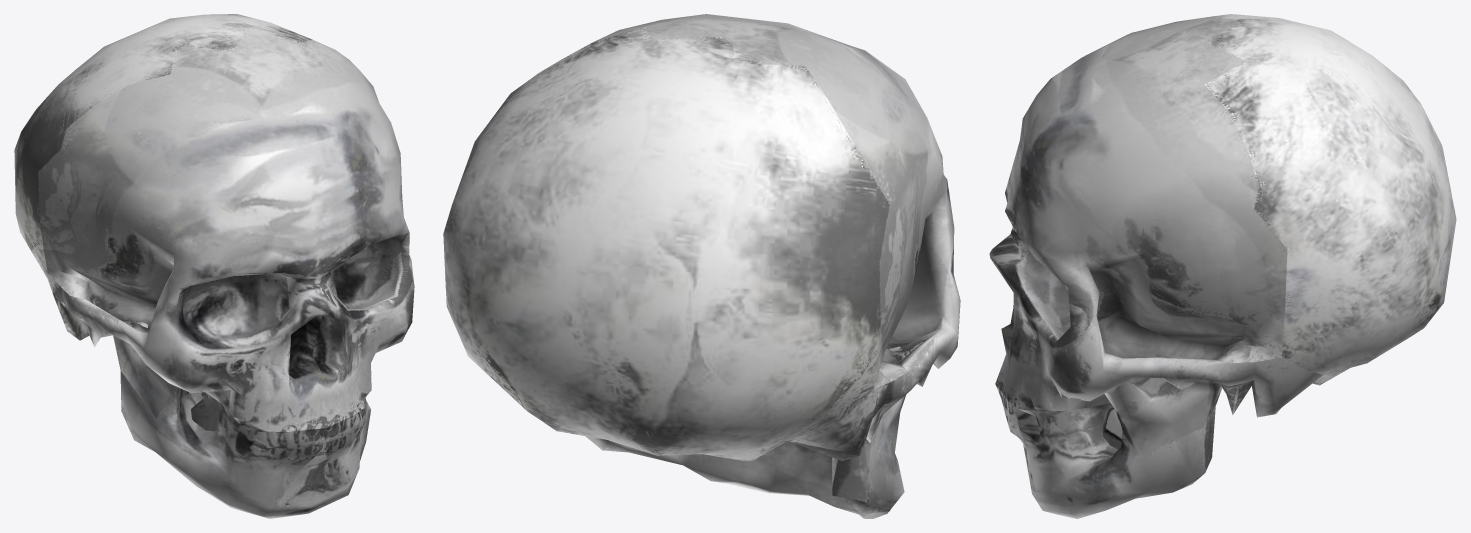
Rendered from Calavera.dae.
3 views of the same model, side by side, from view 1: azimuth 30°, elevation 25°; view 2: azimuth 150°, elevation 25°; view 3: azimuth 270°, elevation 25° (orthographic). The views are drawn at different scales.
Parts seen in each view (by area): view 1: _3DGeom_1_Defintion (×3); view 2: _3DGeom_1_Defintion (×3); view 3: _3DGeom_1_Defintion (×3).
Part boxes in pixels (box(x1,y1,x2,y2)): _3DGeom_1_Defintion (×3): box(14, 14, 414, 518); _3DGeom_1_Defintion (×3): box(443, 14, 960, 518); _3DGeom_1_Defintion (×3): box(989, 14, 1456, 518).
Size of the model in its own units: 8.84 by 10.27 by 11.14.
Materials: 1 (1 with a texture image).
